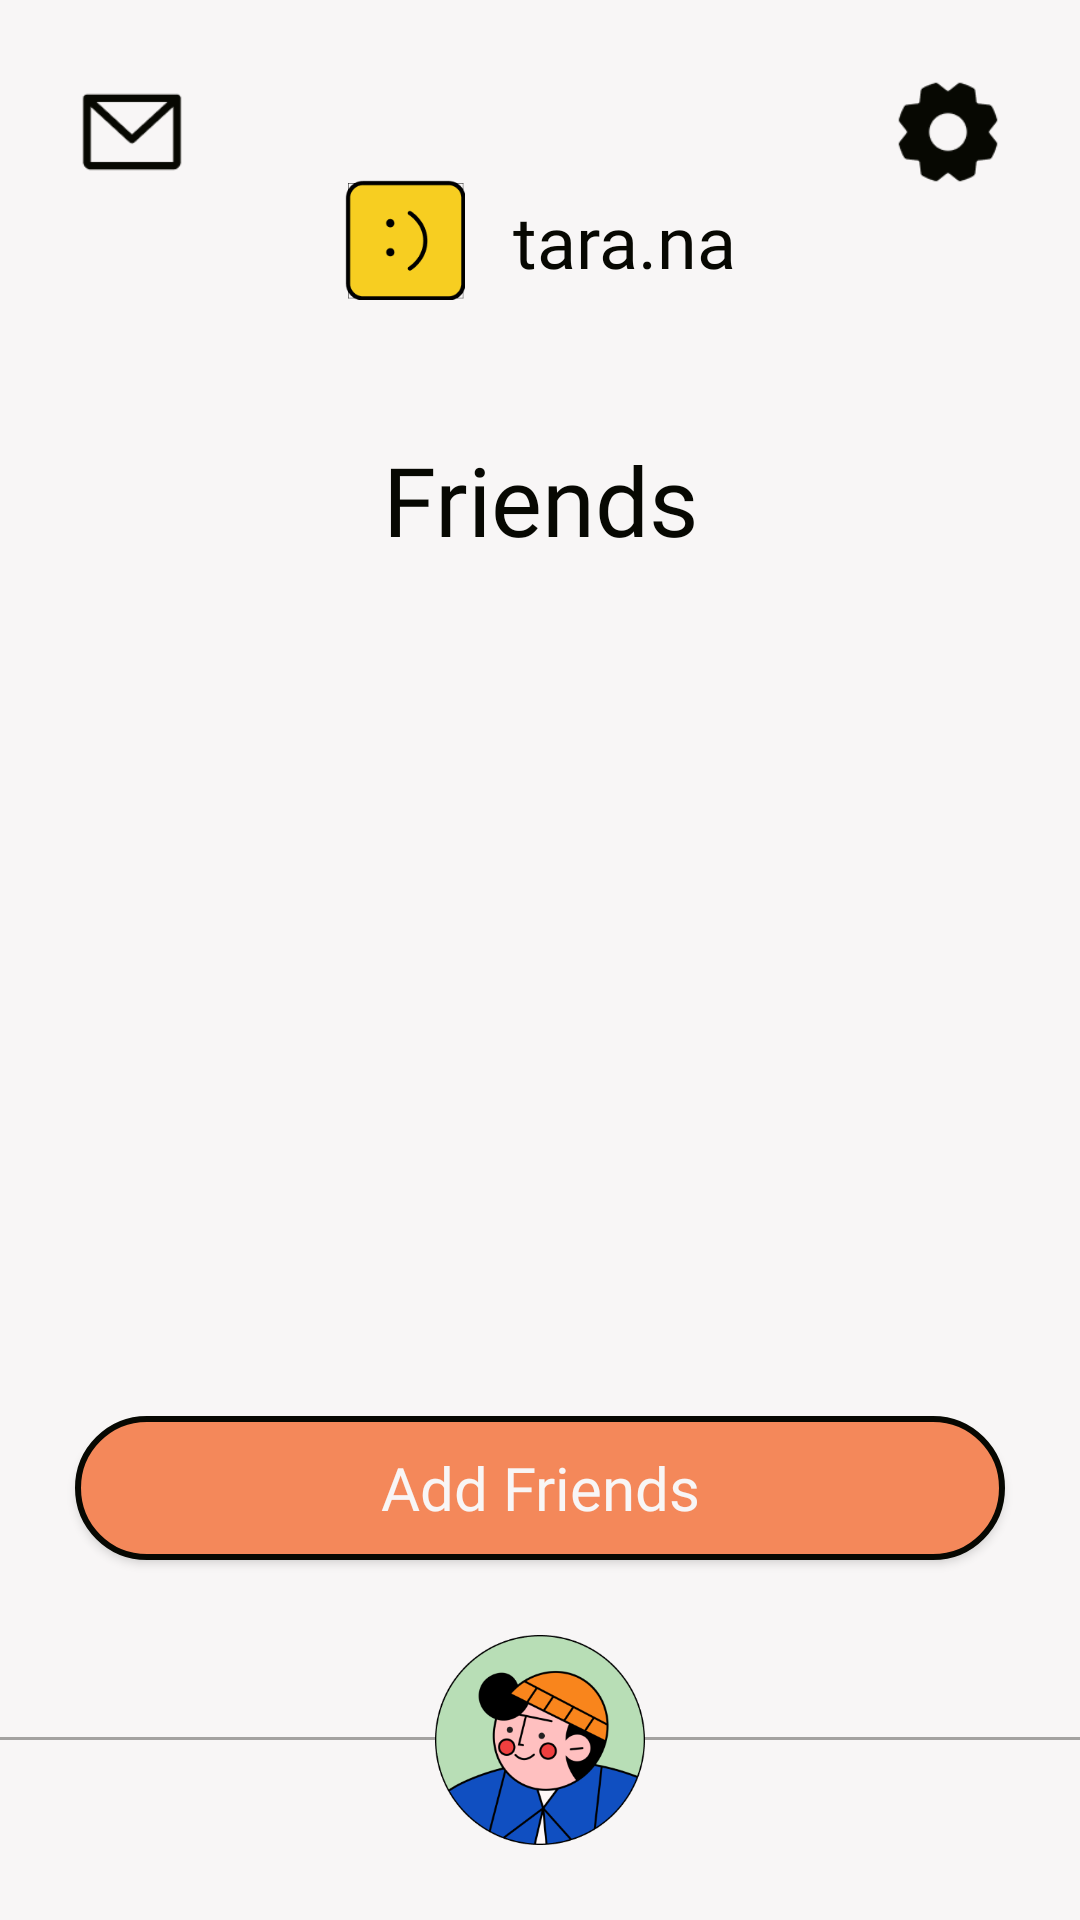

Icon click points for this 1080x1920 phone screenshot, format (x,y):
inbox: (132,132)
profile: (540,1740)
settings: (948,132)
